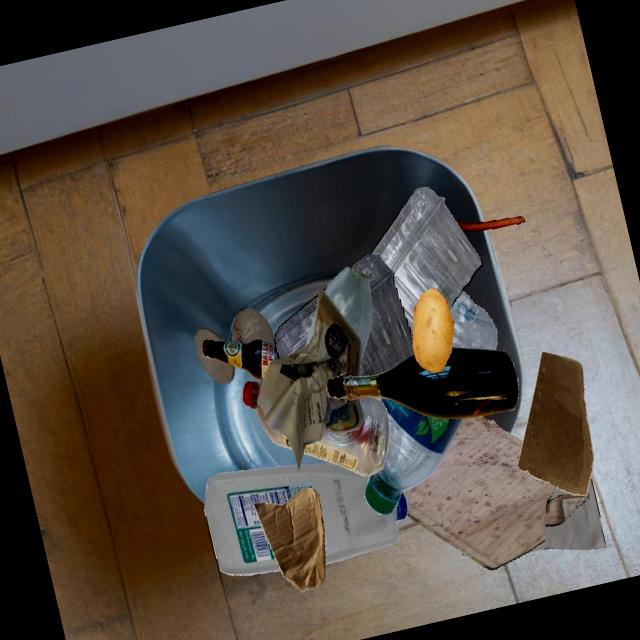biowaste: (412, 287, 453, 372), (456, 216, 525, 231)
cardboard: (518, 351, 593, 495), (253, 487, 325, 592)
glass: (326, 347, 518, 419), (324, 266, 372, 361), (202, 339, 279, 379), (194, 327, 234, 383), (231, 308, 274, 343)
paper: (402, 415, 588, 569), (257, 289, 364, 470), (528, 476, 606, 551), (460, 495, 562, 550)
plastic: (204, 462, 407, 575), (369, 186, 482, 338), (364, 397, 464, 514), (303, 395, 389, 476), (360, 280, 414, 376), (449, 290, 497, 350), (311, 283, 370, 325)
